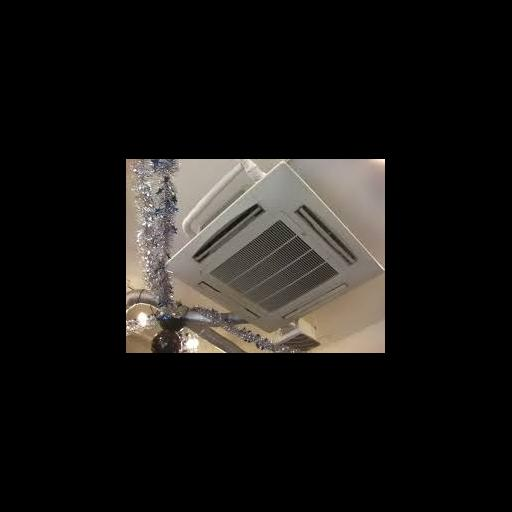4-way-ac: (166, 161, 385, 335)
